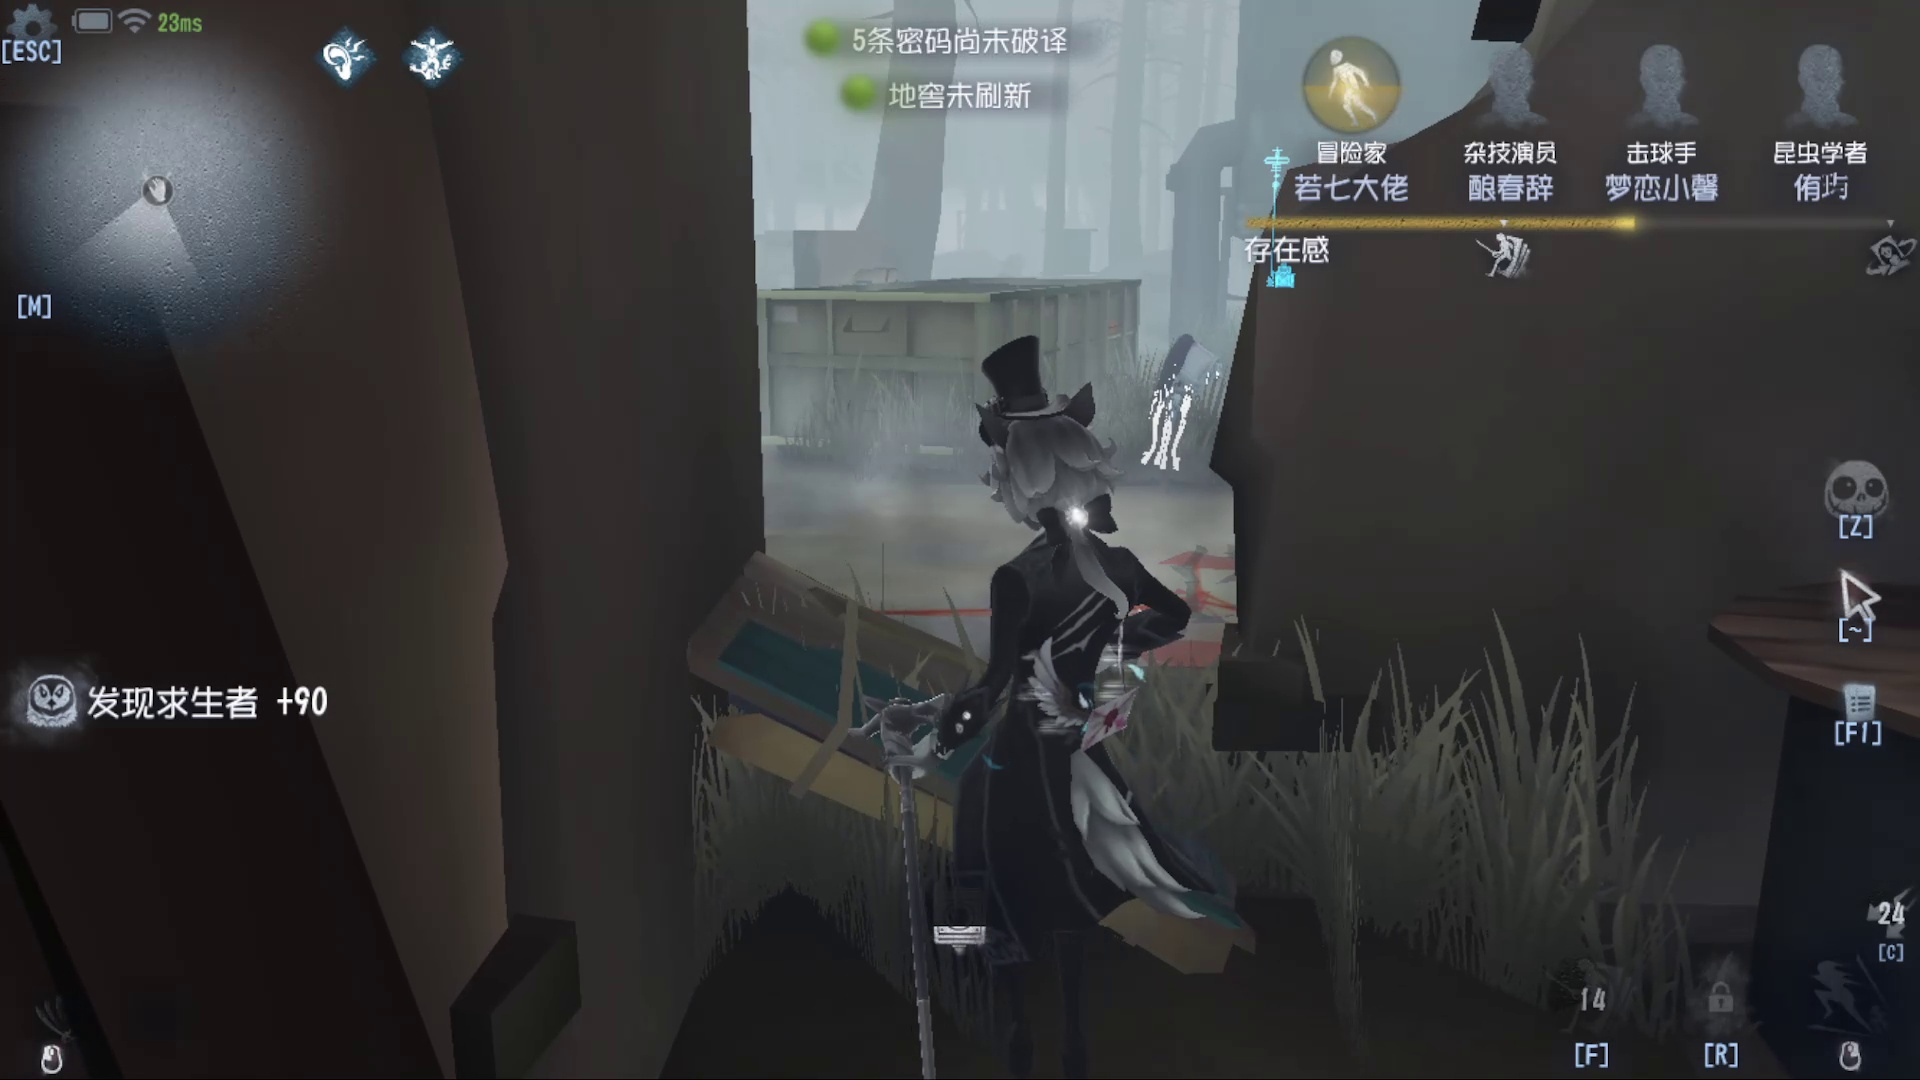木板: (663, 545, 1278, 985)
